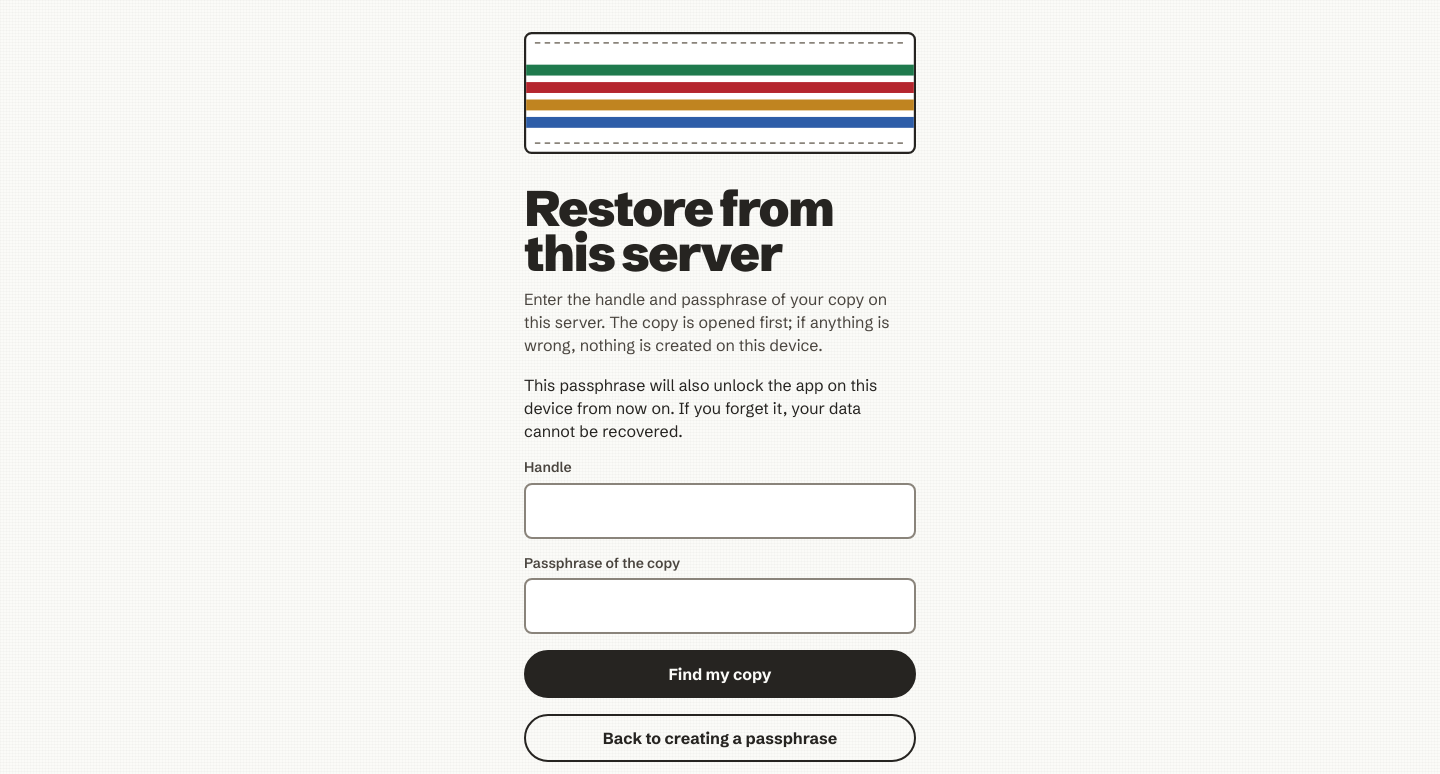
Test: RestoreFromServerScreen › a find that throws is a calm line, not a crash
Type "alice" into the field labelled "Handle" at coordinates (720, 511), box [526,485,914,537]
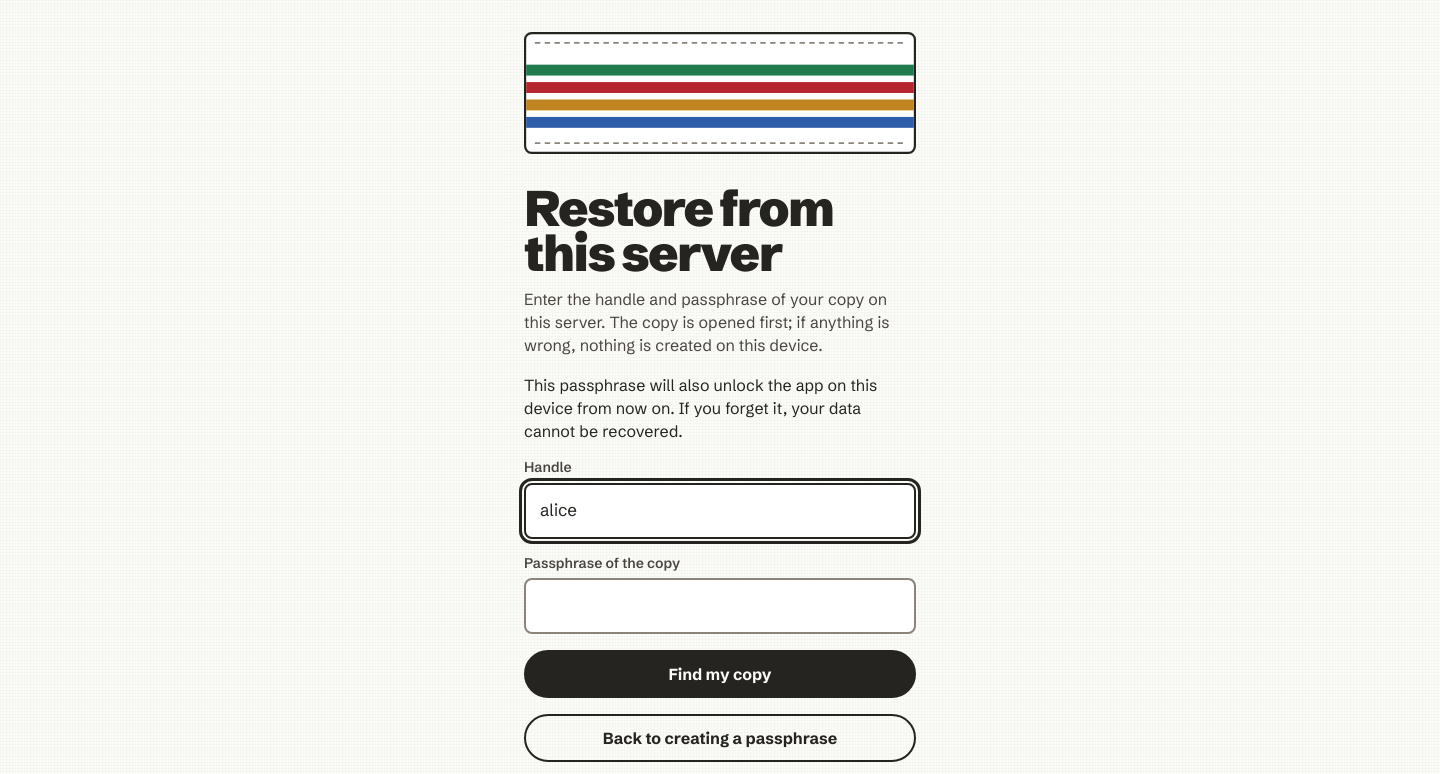
Type "a vault passphrase" into the password field labelled "Passphrase of the copy" at coordinates (720, 606), box [526,580,914,632]
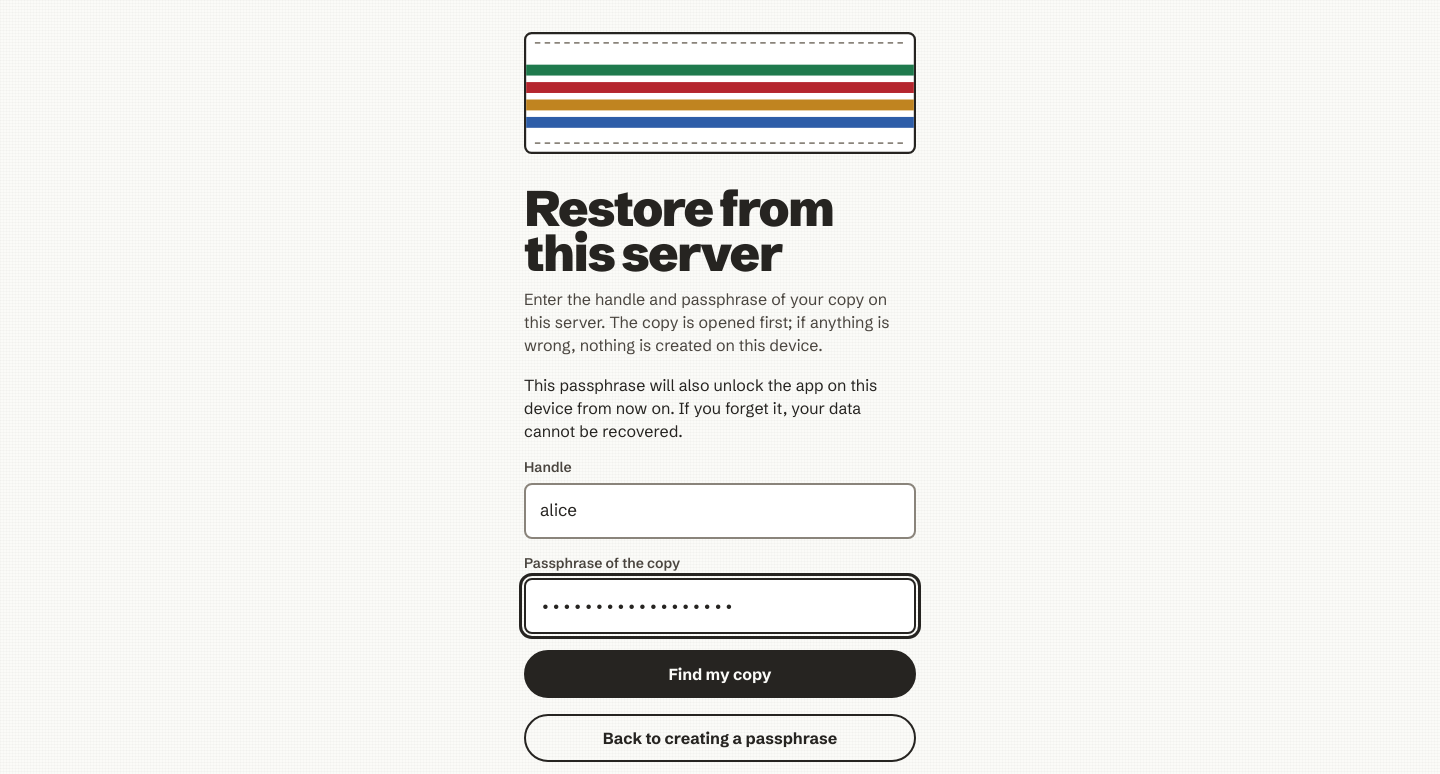
Click the button "Find my copy" at coordinates (720, 674), box [524,650,916,698]
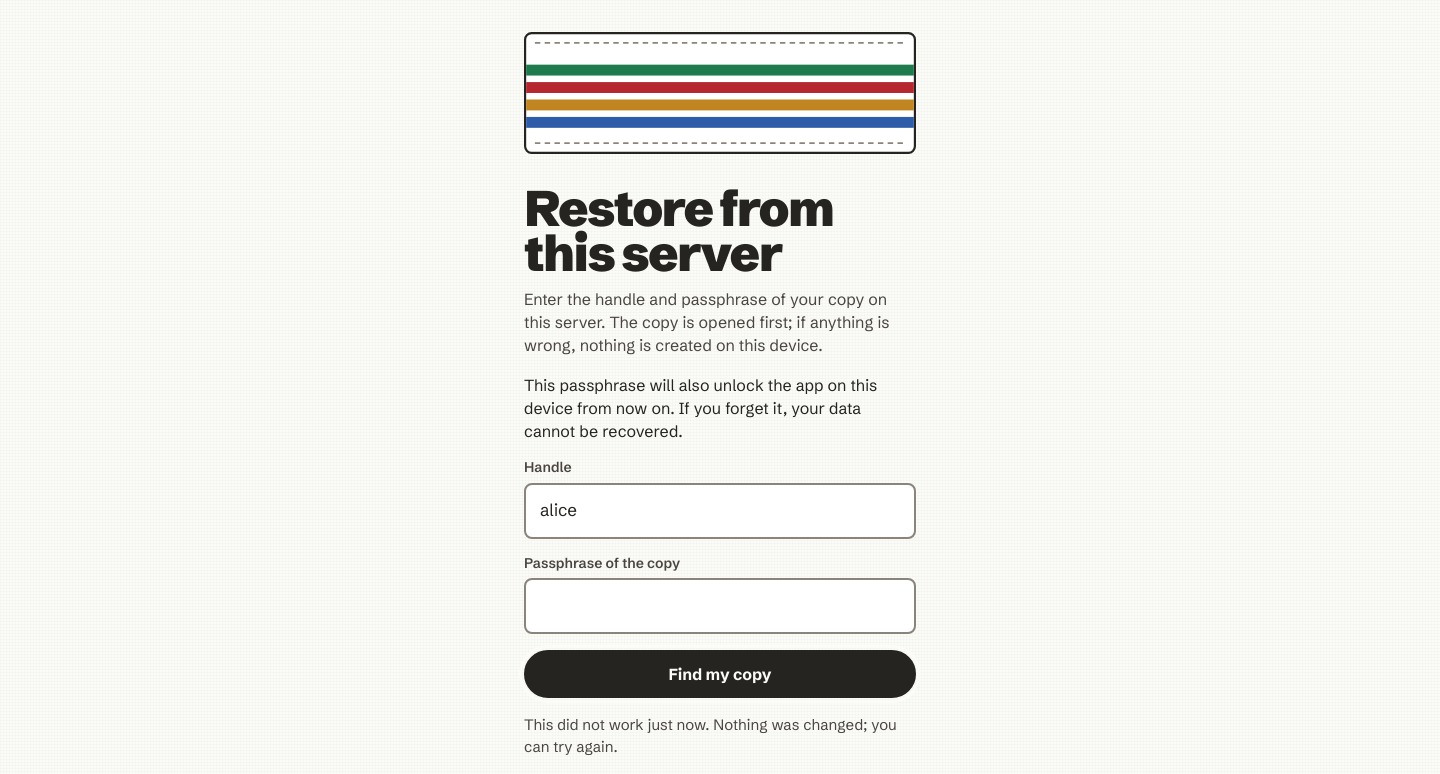
Expected: the text "This did not work just now. Nothing was changed; you can try again." is shown, [524,714,916,758]
